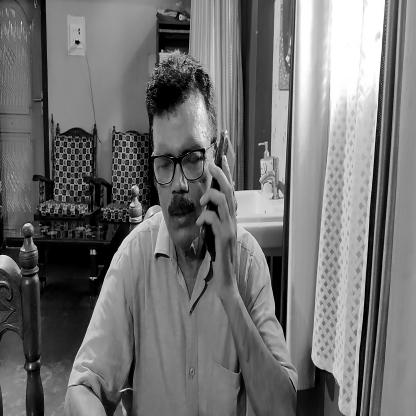Normal: (143, 61, 217, 250)
